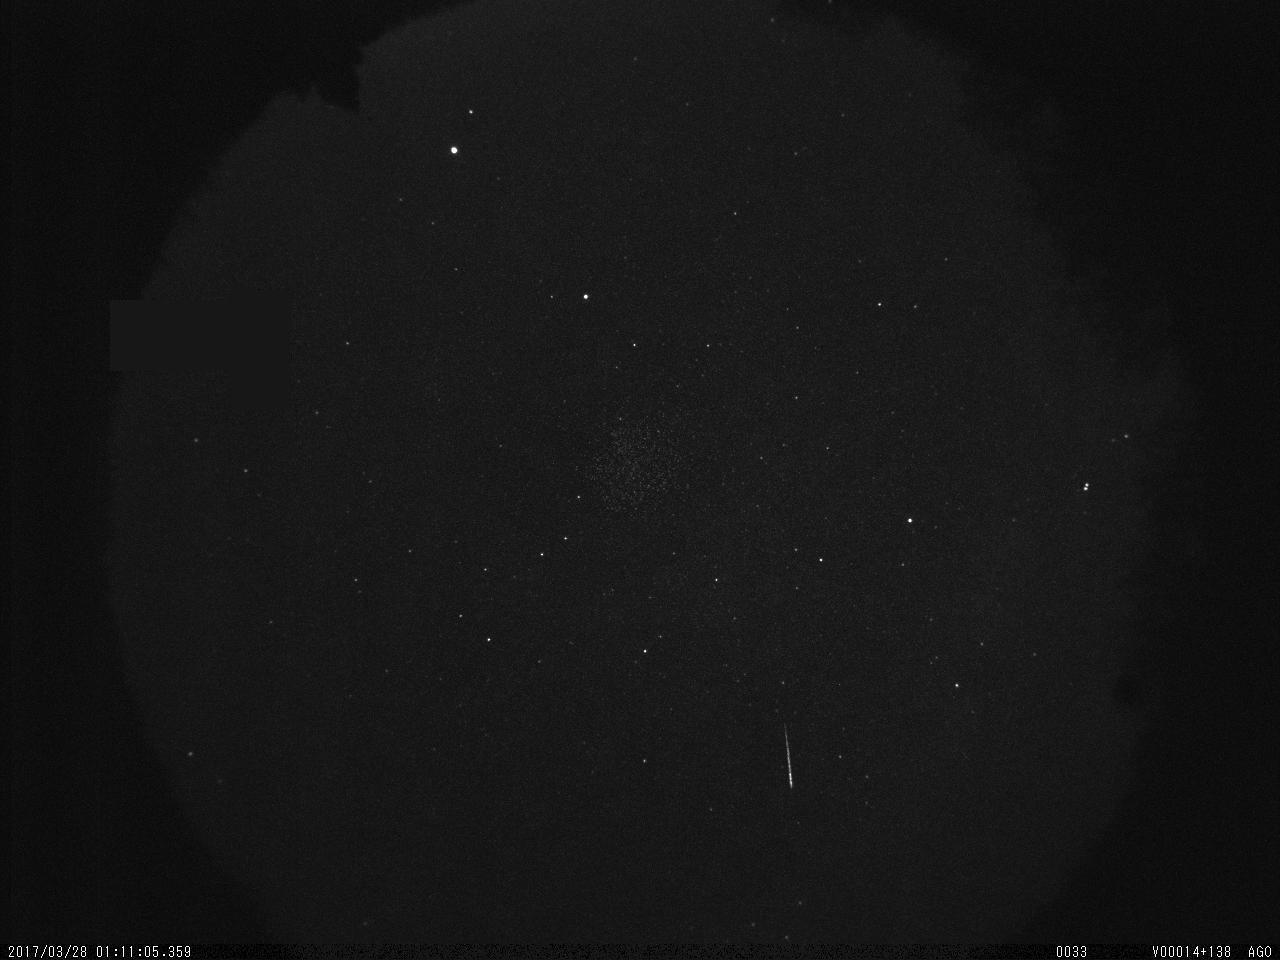meteor: (763, 718, 814, 803)
